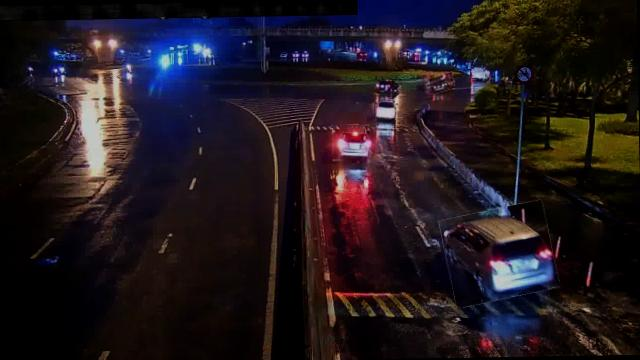Car: (442, 203, 557, 303), (332, 124, 371, 161), (426, 73, 455, 93), (374, 98, 396, 120)
